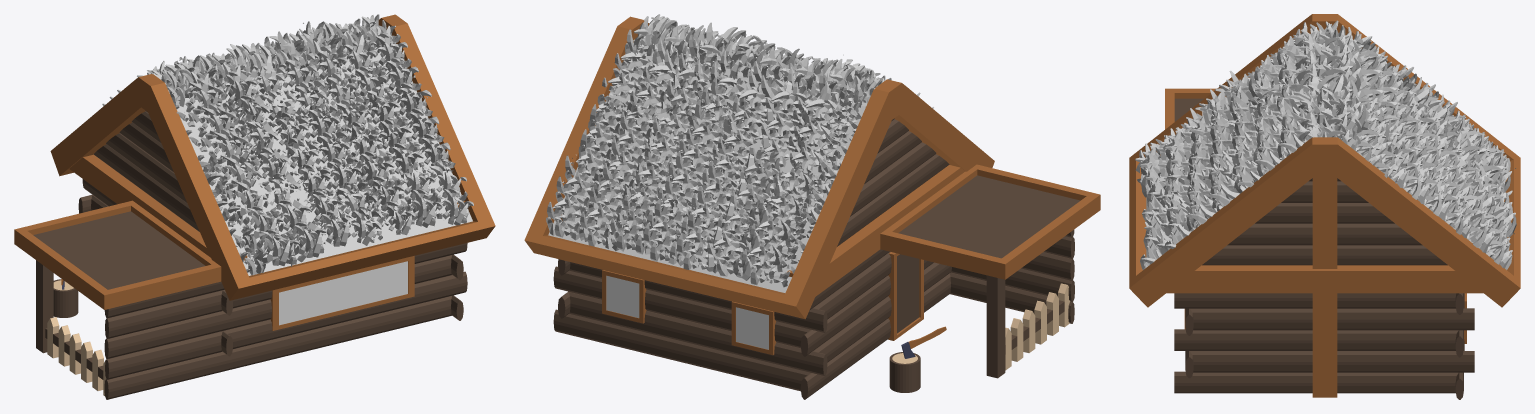
Rendered from viking house wood.fbx.
The picture shows the model from 3 angles, left to right: view 1: azimuth 30°, elevation 25°; view 2: azimuth 150°, elevation 25°; view 3: azimuth 270°, elevation 25°; orthographic projection. The views are drawn at different scales.
Parts seen in each view (by area): view 1: House, grass; view 2: House, grass, deur; view 3: House, grass.
Part boxes in pixels (x1,y1,x2,y2): House: (14, 14, 495, 399); grass: (102, 14, 473, 275); House: (524, 16, 1100, 399); grass: (546, 14, 933, 292); deur: (897, 254, 919, 333); House: (1129, 14, 1520, 399); grass: (1135, 20, 1516, 269).
Bounding box in the file's own units: 1914 × 1256 × 1667.
